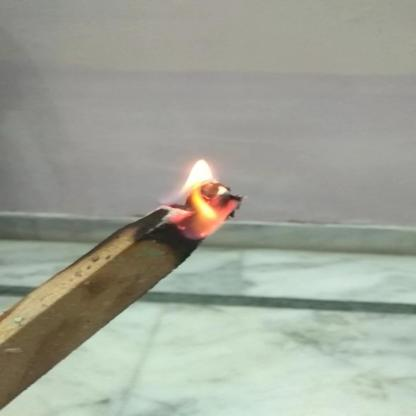fire: (158, 152, 251, 244)
